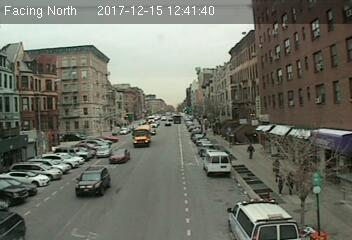car: (74, 166, 112, 198), (202, 150, 233, 177), (109, 148, 132, 165), (95, 145, 112, 159)
pedestrian: (275, 172, 286, 196), (246, 143, 256, 160)
police: (225, 196, 302, 240)
truck: (132, 125, 151, 148)
ups: (173, 114, 182, 125)
